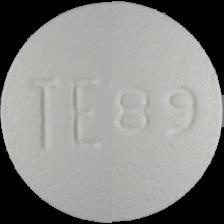0093-5289: (0, 0, 224, 224)
